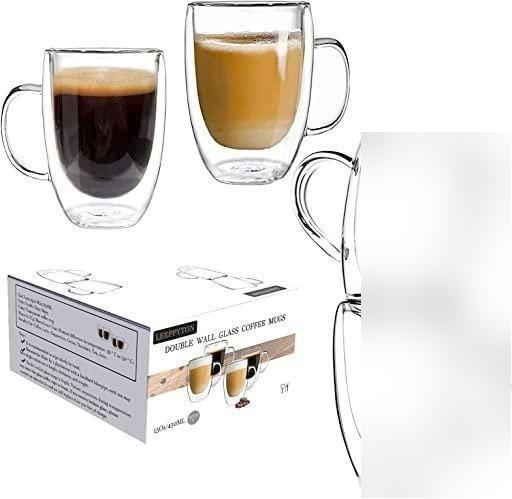glass-mug: (177, 0, 354, 196), (0, 41, 171, 237)
